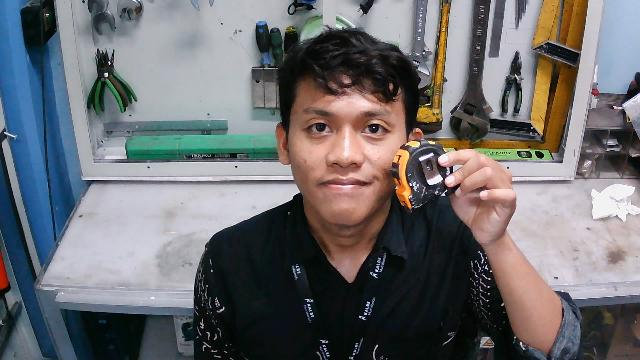meteran: (393, 133, 462, 214)
